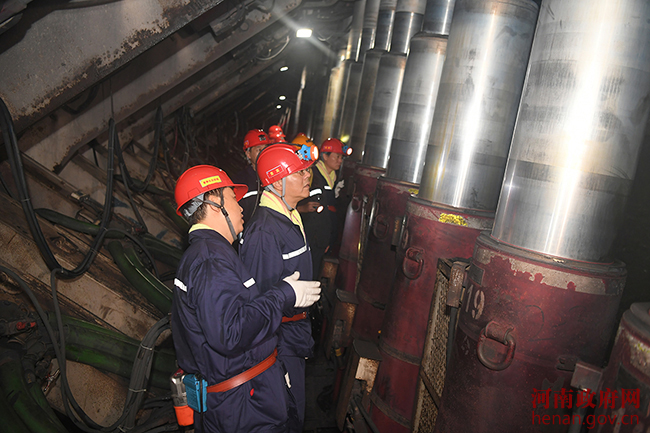helmet: (172, 159, 254, 248), (254, 147, 323, 203), (319, 135, 354, 169)
